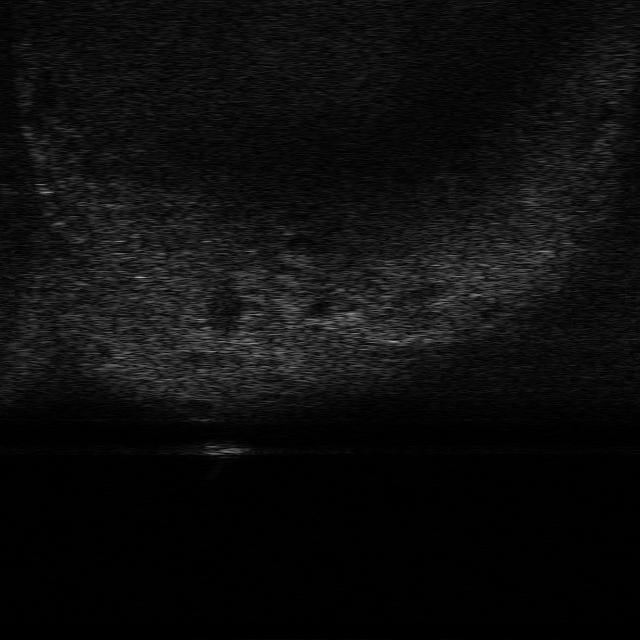cube: (196, 437, 250, 460)
